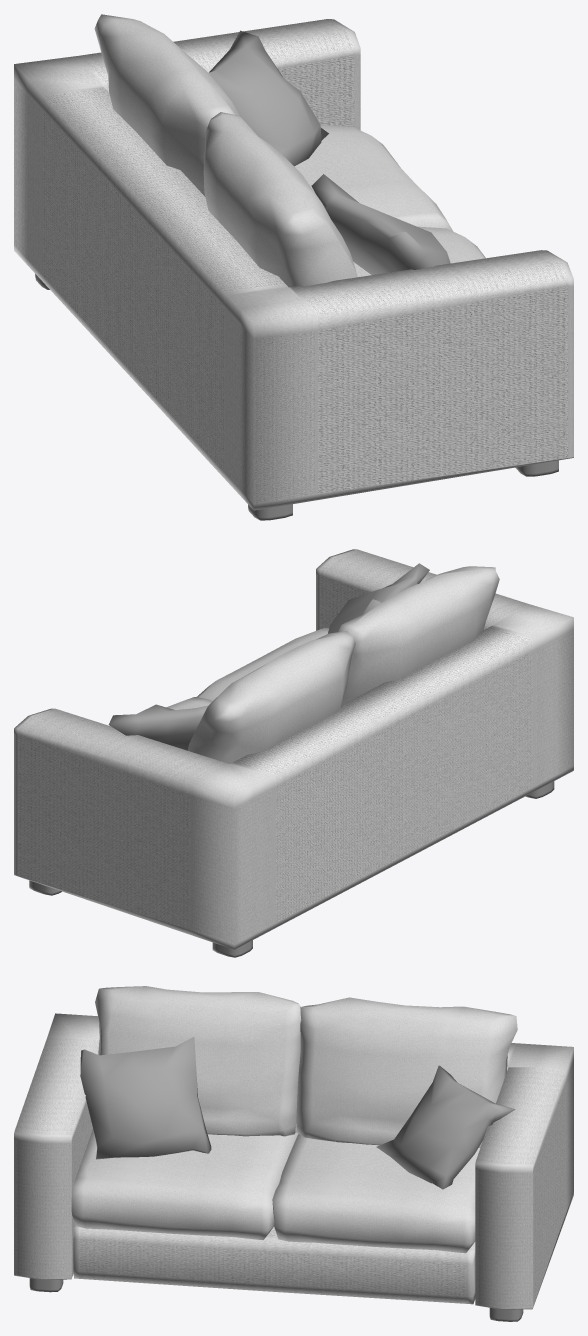
The model's file is canapea.obj.
3 views of the same model, one above another, from view 1: azimuth 30°, elevation 25°; view 2: azimuth 150°, elevation 25°; view 3: azimuth 270°, elevation 25° (orthographic). The views are drawn at different scales.
Bounding box in the file's own units: 4.5 × 3.17 × 7.19.
